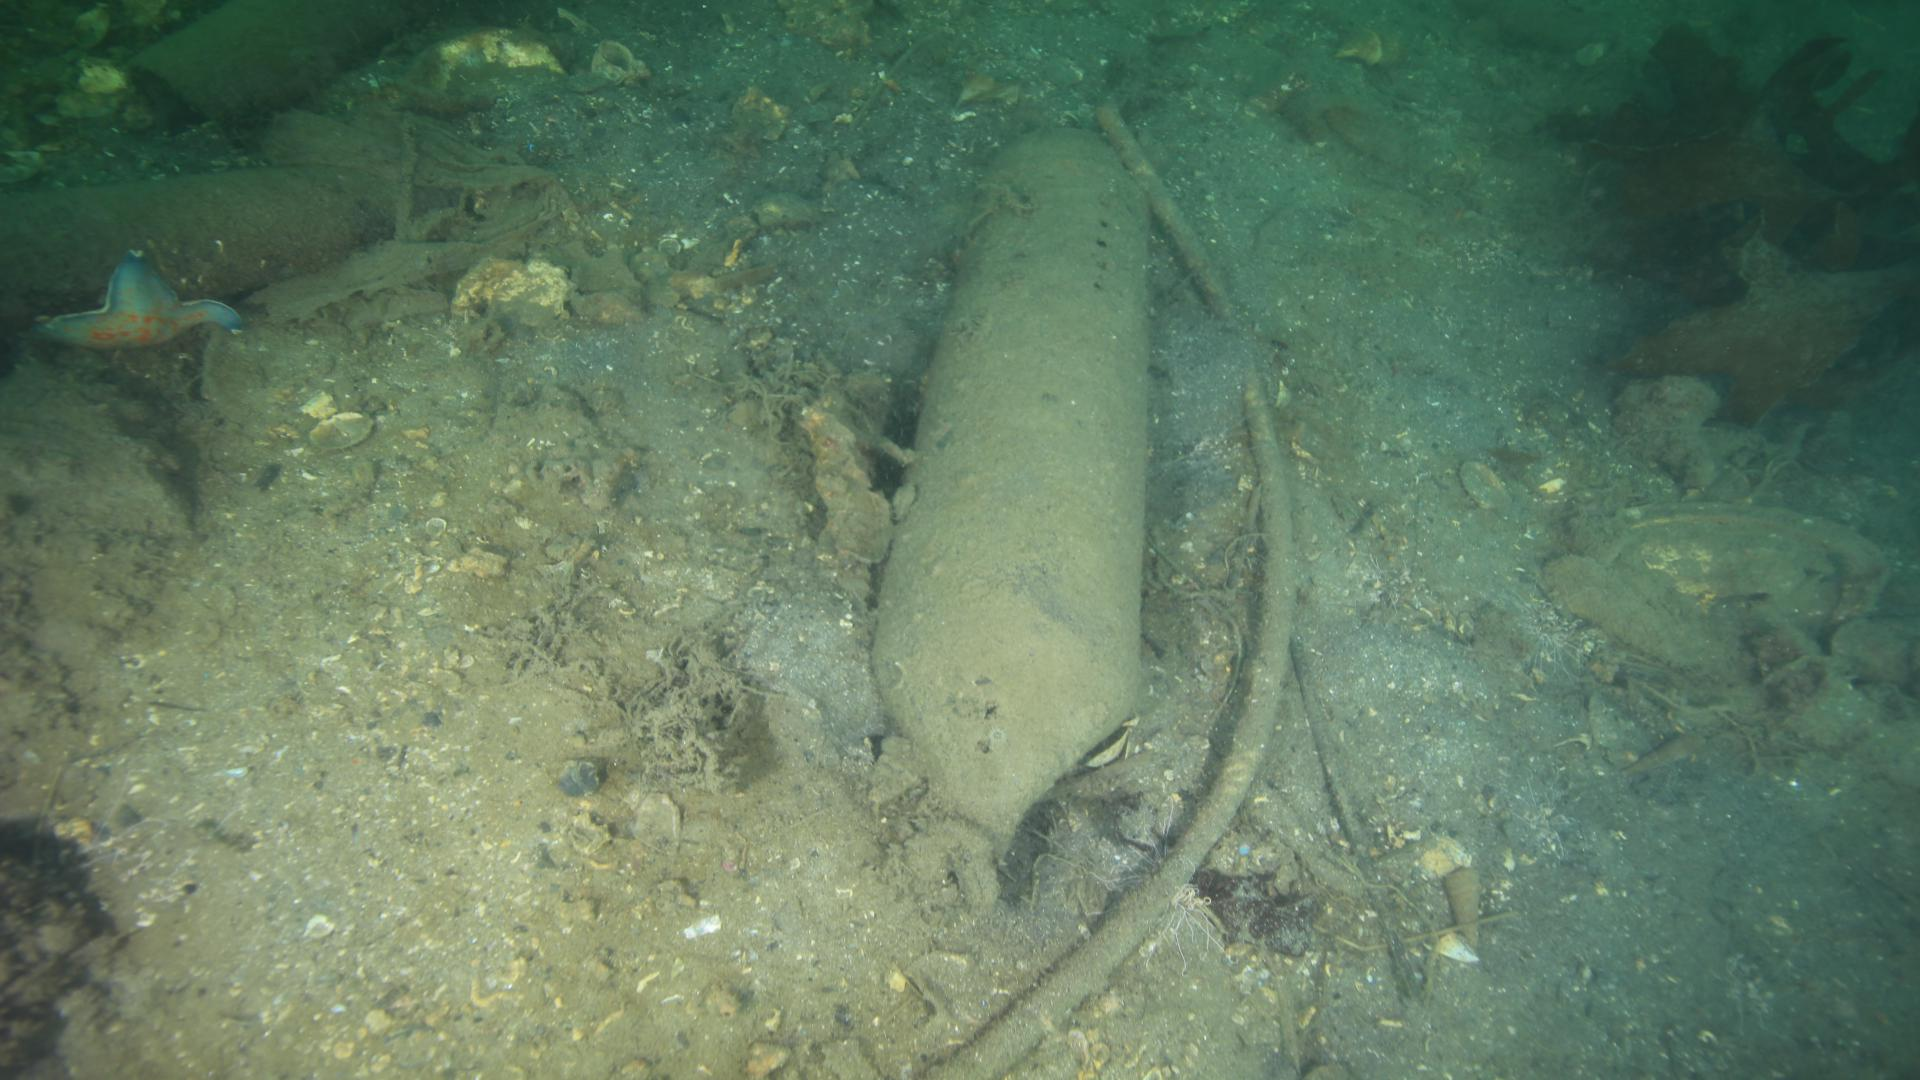eel fish trap: (860, 119, 1160, 847)
